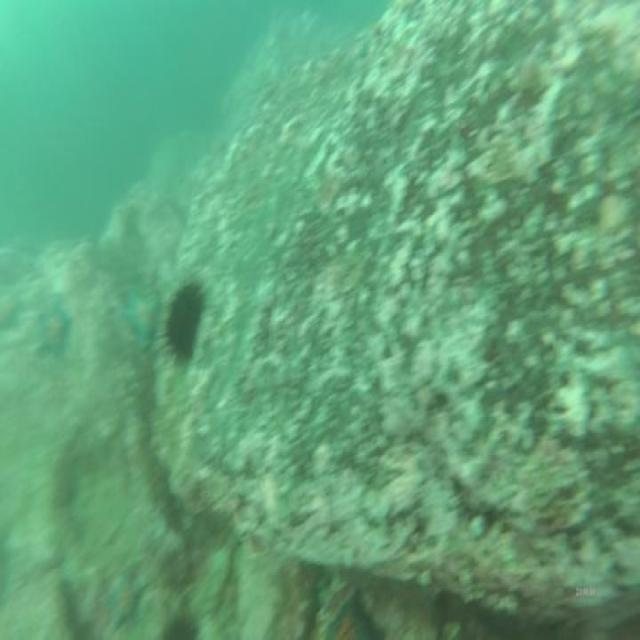echinus: (165, 280, 208, 358)
starfish: (102, 567, 150, 632), (120, 289, 163, 349), (35, 299, 73, 360)
